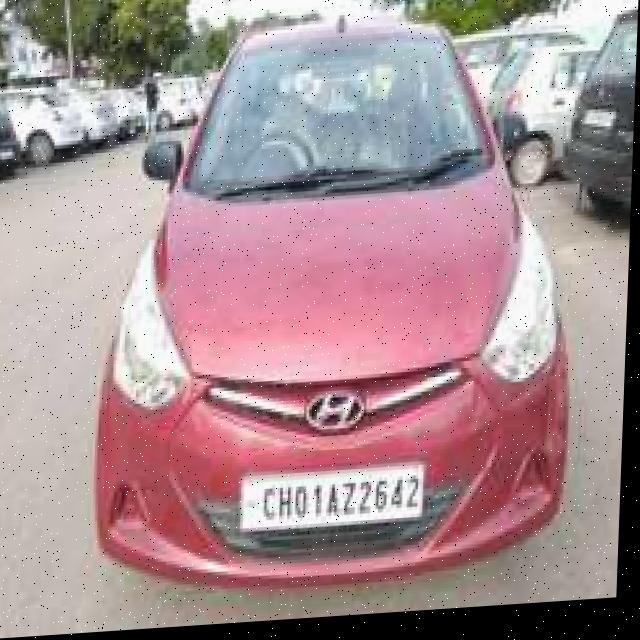plate: (244, 465, 431, 537)
